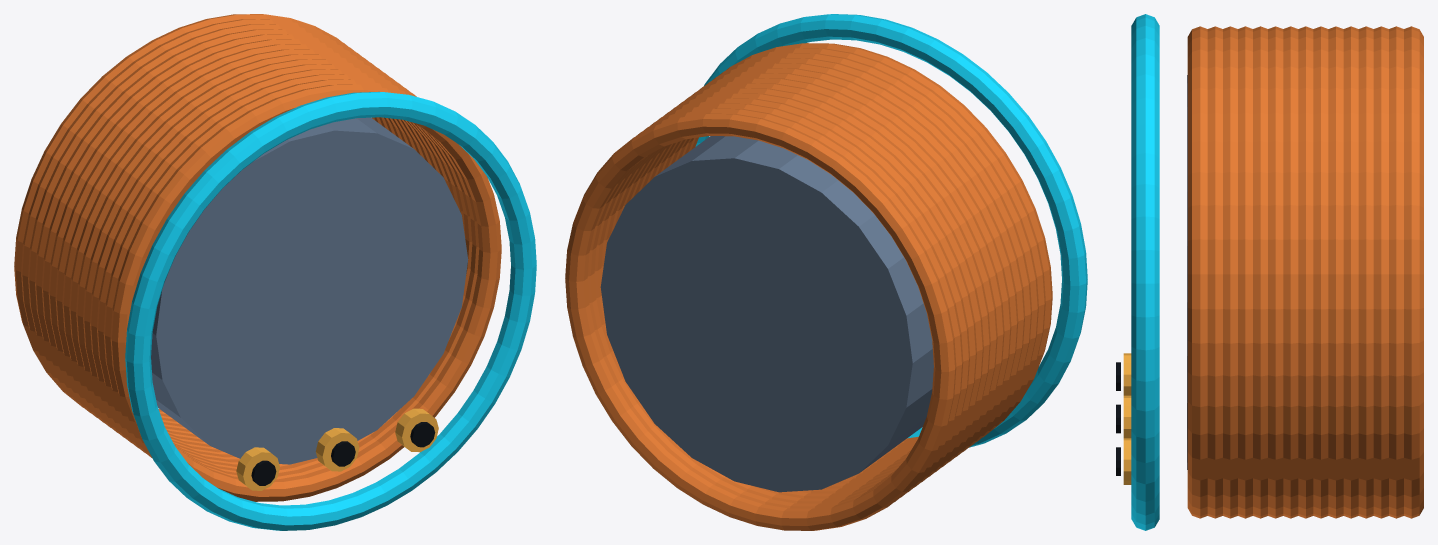
The model's file is 38_L90_MagneticCoilAssemblyA.fbx.
3 renders of one model, left to right at view 1: azimuth 30°, elevation 25°; view 2: azimuth 150°, elevation 25°; view 3: azimuth 270°, elevation 25°, orthographic. The views are drawn at different scales.
Visible parts, largest first — view 1: L90_MagneticCoilAssemblyA, L90_MagneticCoilAssemblyA_Part_0002, L90_MagneticCoilAssemblyA_Part_0005, L90_MagneticCoilAssemblyA_Part_0003, L90_MagneticCoilAssemblyA_Part_0007; view 2: L90_MagneticCoilAssemblyA, L90_MagneticCoilAssemblyA_Part_0002; view 3: L90_MagneticCoilAssemblyA, L90_MagneticCoilAssemblyA_Part_0002, L90_MagneticCoilAssemblyA_Part_0007, L90_MagneticCoilAssemblyA_Part_0005, L90_MagneticCoilAssemblyA_Part_0003.
Boxes of the visible parts, x1=… form: L90_MagneticCoilAssemblyA: x1=14, y1=14, x2=501, y2=501; L90_MagneticCoilAssemblyA_Part_0002: x1=125, y1=91, x2=536, y2=530; L90_MagneticCoilAssemblyA_Part_0005: x1=315, y1=428, x2=359, y2=471; L90_MagneticCoilAssemblyA_Part_0003: x1=236, y1=447, x2=279, y2=490; L90_MagneticCoilAssemblyA_Part_0007: x1=395, y1=408, x2=438, y2=452; L90_MagneticCoilAssemblyA: x1=565, y1=43, x2=1052, y2=530; L90_MagneticCoilAssemblyA_Part_0002: x1=695, y1=14, x2=1087, y2=447; L90_MagneticCoilAssemblyA: x1=1187, y1=26, x2=1423, y2=518; L90_MagneticCoilAssemblyA_Part_0002: x1=1131, y1=14, x2=1159, y2=530; L90_MagneticCoilAssemblyA_Part_0007: x1=1123, y1=438, x2=1131, y2=484; L90_MagneticCoilAssemblyA_Part_0005: x1=1123, y1=395, x2=1131, y2=438; L90_MagneticCoilAssemblyA_Part_0003: x1=1123, y1=353, x2=1131, y2=395.
Size of the model in its own units: 144 by 144 by 85.65.
